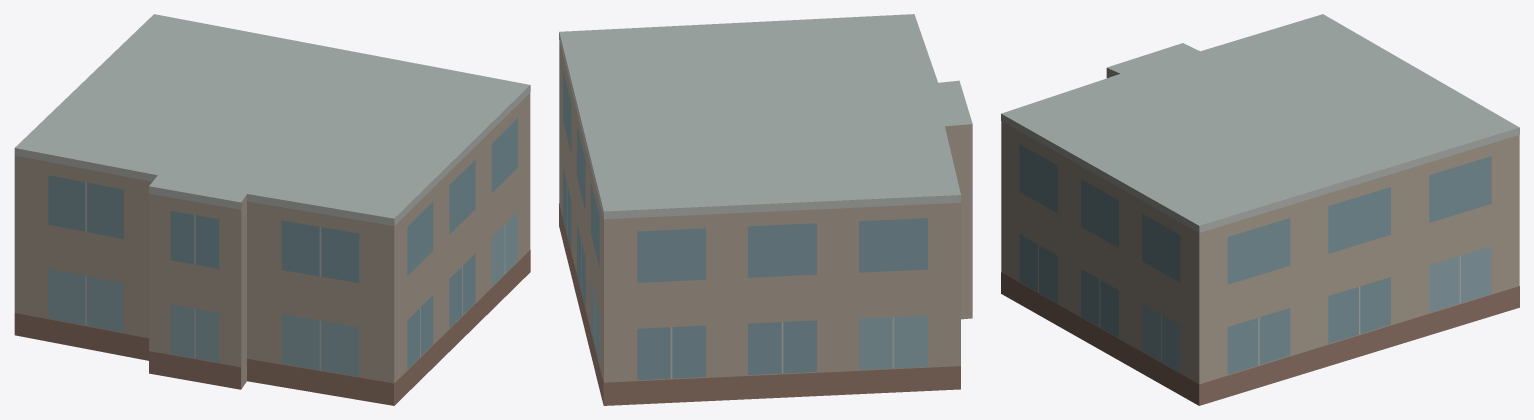
The model's file is survey-upis-32667997.glb.
3 renders of one model, left to right at view 1: azimuth 30°, elevation 25°; view 2: azimuth 150°, elevation 25°; view 3: azimuth 270°, elevation 25°, orthographic. The views are drawn at different scales.
Visible parts, largest first — view 1: survey-upis-32667997.tmp; view 2: survey-upis-32667997.tmp; view 3: survey-upis-32667997.tmp.
Part boxes in pixels (x1,y1,x2,y2): survey-upis-32667997.tmp: [14, 14, 530, 405]; survey-upis-32667997.tmp: [559, 14, 972, 405]; survey-upis-32667997.tmp: [1001, 14, 1519, 405].
Size of the model in its own units: 15.4 by 6.1 by 15.94.
